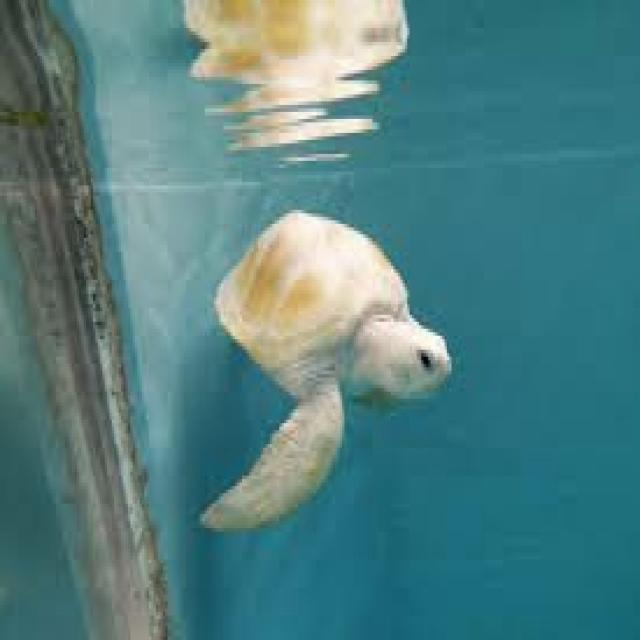turtle: (200, 210, 449, 525)
